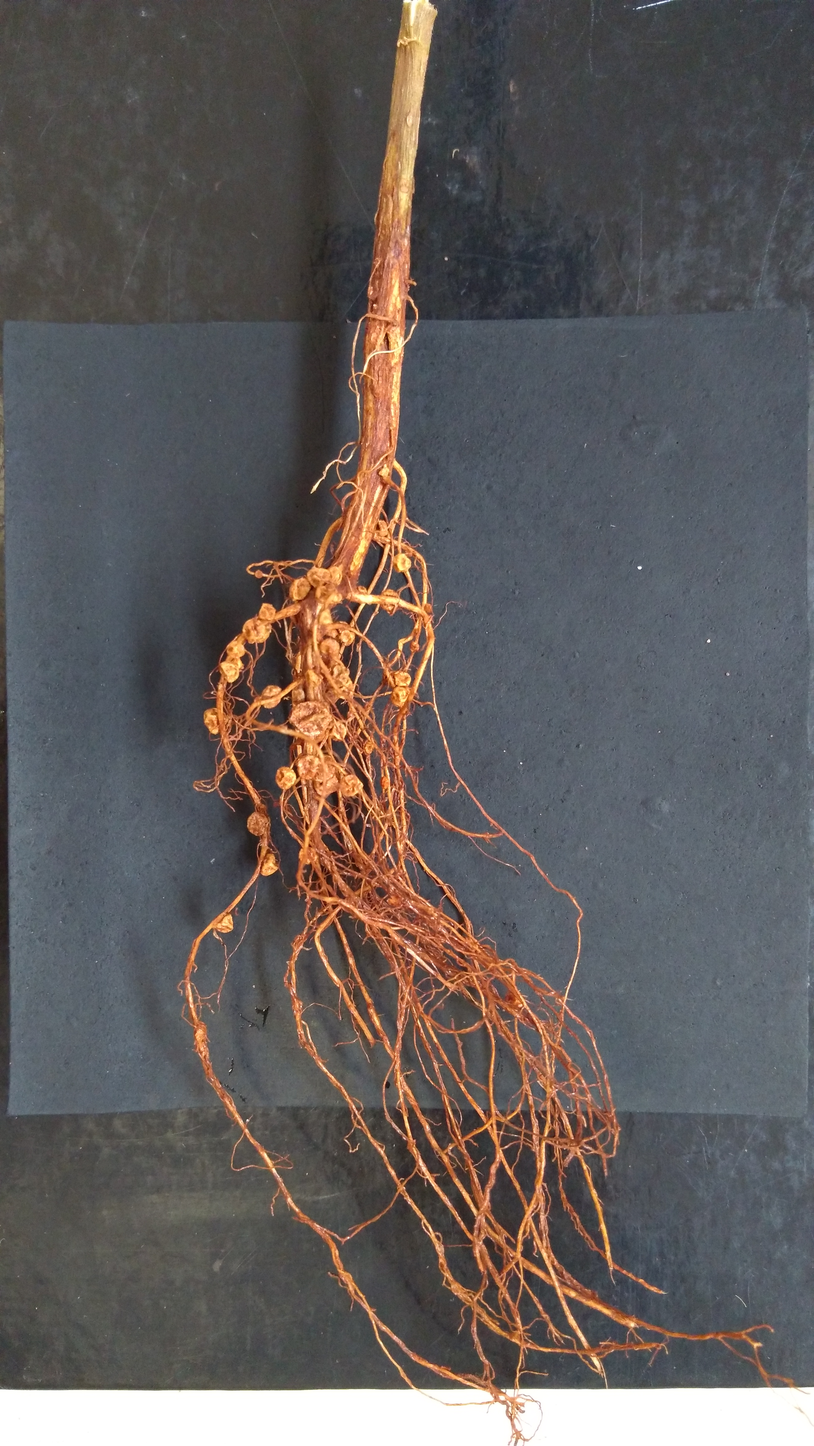nodule: (287, 699, 333, 736), (241, 615, 272, 644), (331, 663, 355, 700), (202, 706, 230, 735), (313, 770, 339, 797), (294, 754, 320, 780), (259, 683, 283, 711), (288, 575, 312, 602), (304, 566, 332, 589), (246, 810, 269, 838), (340, 773, 365, 797), (274, 765, 297, 791), (218, 660, 240, 684), (379, 588, 400, 613), (391, 552, 413, 574), (213, 912, 235, 934), (302, 667, 324, 689), (319, 636, 340, 659), (259, 852, 278, 877), (329, 721, 348, 743), (257, 601, 277, 621), (297, 846, 318, 865), (290, 687, 307, 709), (339, 627, 356, 648), (314, 584, 331, 605), (327, 565, 343, 587), (225, 641, 245, 658), (393, 670, 412, 687), (392, 685, 411, 702), (376, 517, 389, 539), (319, 608, 334, 627), (379, 775, 390, 790), (423, 601, 434, 616), (378, 466, 391, 477), (409, 640, 420, 653), (364, 740, 374, 754), (253, 569, 263, 580), (357, 584, 368, 594)
